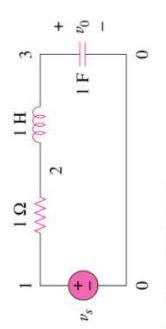Capacitor: (67, 34, 104, 64)
